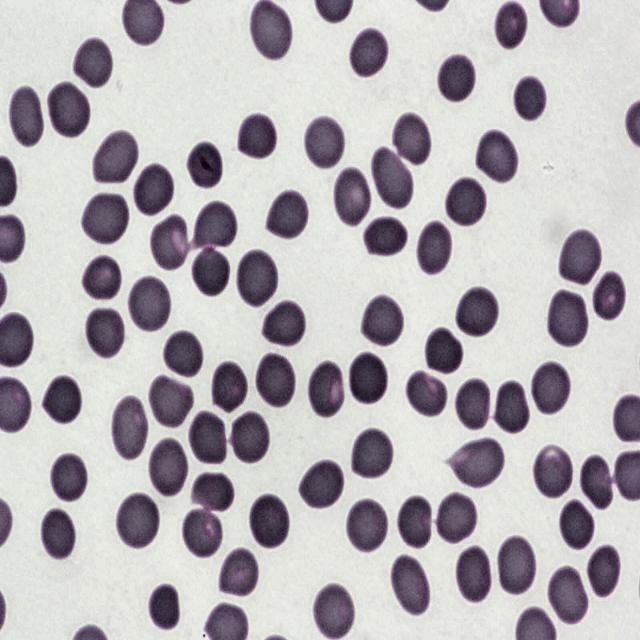red blood cell: (448, 437, 506, 490), (370, 145, 415, 212), (90, 128, 139, 188), (545, 286, 589, 351), (234, 248, 280, 310), (80, 190, 130, 247), (115, 490, 161, 551), (127, 274, 172, 335), (148, 373, 195, 431), (249, 0, 292, 63), (558, 227, 603, 287), (110, 392, 148, 463), (46, 79, 90, 140), (349, 426, 396, 483), (546, 564, 589, 626), (495, 533, 536, 598), (392, 554, 433, 618), (295, 458, 345, 510), (248, 491, 290, 552), (148, 436, 189, 498), (8, 84, 46, 150), (345, 25, 389, 82), (264, 188, 310, 242), (254, 351, 296, 410), (360, 294, 405, 349), (455, 284, 500, 339), (475, 128, 519, 184), (150, 214, 192, 272), (332, 166, 371, 228), (306, 359, 346, 419), (304, 115, 346, 172), (443, 175, 487, 229), (132, 162, 174, 218), (532, 444, 574, 500), (346, 498, 388, 554), (313, 583, 355, 639), (188, 409, 228, 467), (436, 491, 478, 546), (41, 370, 83, 425), (190, 198, 238, 246), (260, 300, 306, 350), (454, 545, 492, 604), (230, 410, 270, 466), (530, 360, 570, 416), (388, 110, 430, 163), (73, 36, 114, 90), (188, 471, 237, 516), (162, 328, 204, 380), (578, 454, 616, 511), (348, 351, 388, 405), (415, 218, 452, 276), (81, 252, 123, 303), (396, 494, 434, 550), (85, 307, 125, 360), (218, 547, 259, 598), (363, 215, 408, 261), (181, 509, 225, 556), (406, 369, 448, 418), (210, 359, 248, 413), (454, 377, 492, 431), (493, 380, 531, 434), (558, 498, 596, 552), (586, 543, 622, 599), (192, 245, 230, 298), (424, 326, 463, 376), (438, 55, 477, 104), (40, 508, 76, 560), (238, 114, 276, 163), (186, 142, 224, 190), (492, 0, 526, 53), (50, 453, 86, 503), (512, 72, 547, 123), (149, 584, 185, 631), (592, 272, 626, 321)
